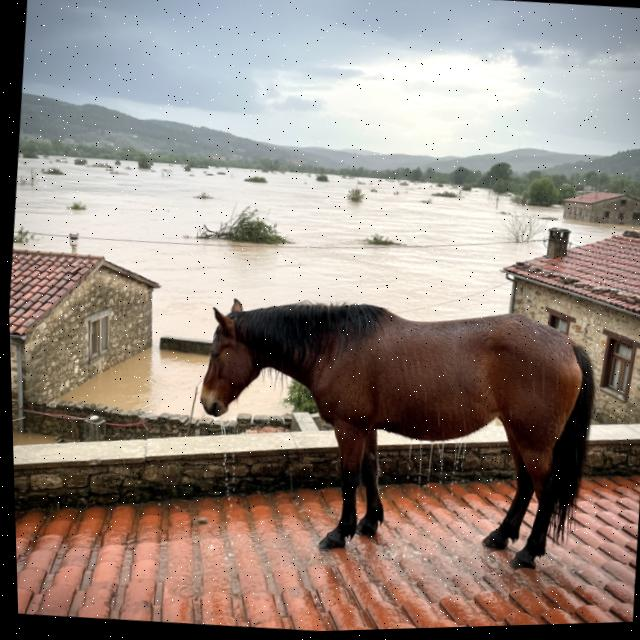horse: (164, 269, 625, 604)
